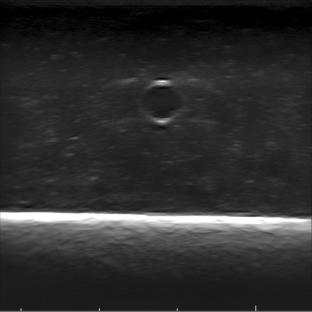vessel: (138, 80, 185, 125)
